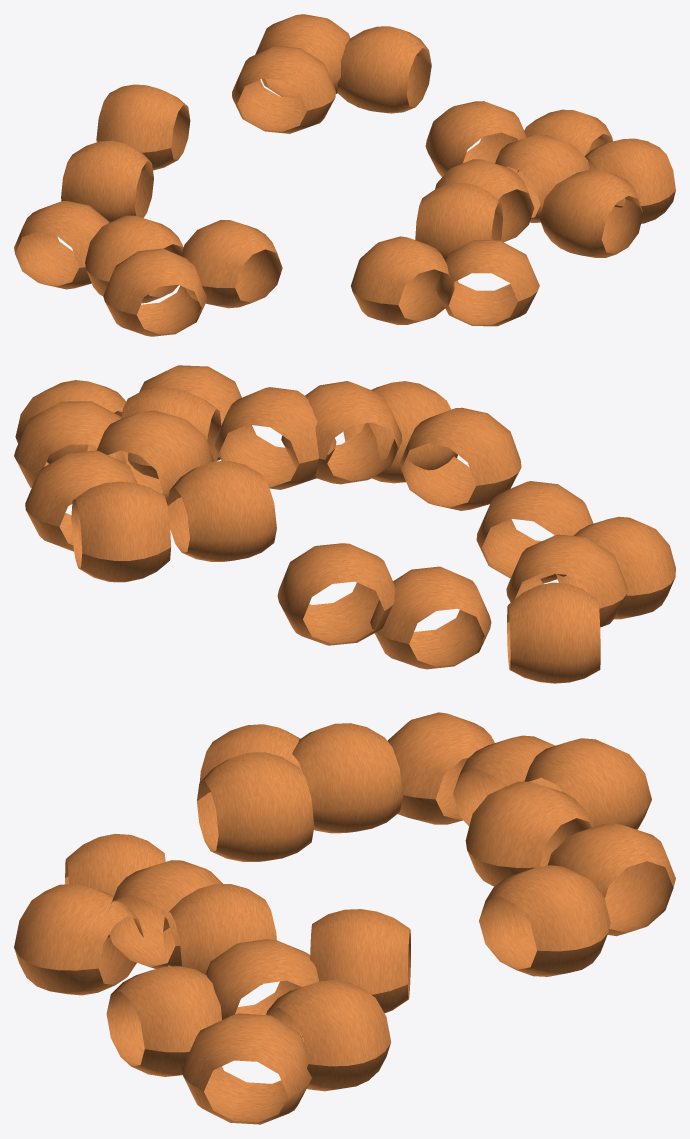
Rendered from 05_Chickpeas_Cluster.obj.
3 views of the same model, one above another, from view 1: azimuth 30°, elevation 25°; view 2: azimuth 150°, elevation 25°; view 3: azimuth 270°, elevation 25° (orthographic). The views are drawn at different scales.
Parts seen in each view (by area): view 1: 05_Chickpeas_Cluster; view 2: 05_Chickpeas_Cluster; view 3: 05_Chickpeas_Cluster.
Boxes of the visible parts, bbox=[...] form: 05_Chickpeas_Cluster: bbox=[14, 14, 675, 336]; 05_Chickpeas_Cluster: bbox=[14, 365, 675, 683]; 05_Chickpeas_Cluster: bbox=[14, 712, 675, 1124].
Size of the model in its own units: 0.0956 by 0.023 by 0.0759.
1 material, 1 textured.
